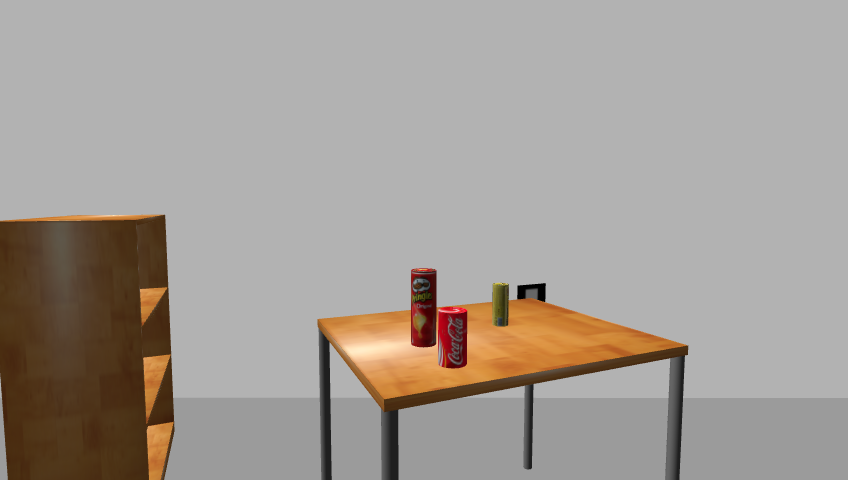aruco marker: (514, 282, 549, 305)
biscuits pack: (492, 282, 509, 328)
bookshelf: (0, 214, 180, 479)
coke can: (439, 306, 469, 369)
dinner table: (309, 300, 697, 479)
pringles can: (407, 267, 440, 350)
